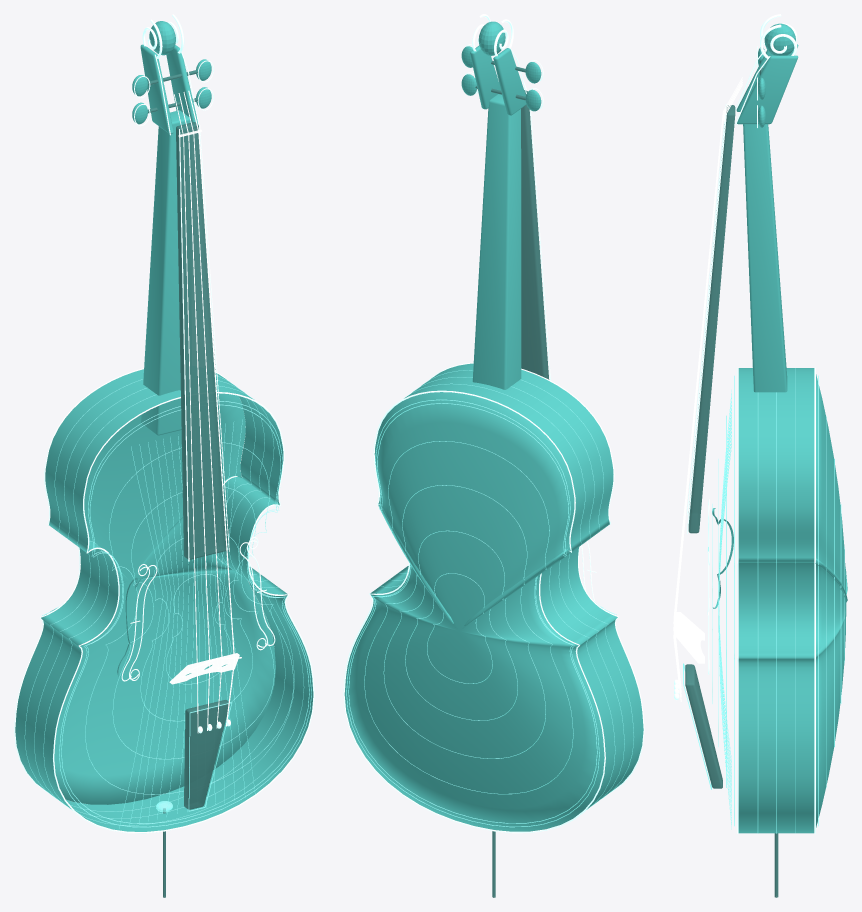
The model's file is gravity-cello.glb.
3 renders of one model, left to right at view 1: azimuth 30°, elevation 25°; view 2: azimuth 150°, elevation 25°; view 3: azimuth 270°, elevation 25°, orthographic.
Parts seen in each view (by area): view 1: Arched maple back, Continuous curved ribs, Ebony fingerboard, Maple neck and heel, Sculpted tailpiece, Front plate rim, Pegbox cheek -1, Purfling 1 0.968, Purfling 1 0.952, String 4, Pegbox cheek 1, String 2 (+12 smaller); view 2: Arched maple back, Continuous curved ribs, Maple neck and heel, Ebony fingerboard, Back plate rim, Pegbox cheek -1, Purfling -1 0.968, Purfling -1 0.952, Pegbox cheek 1, Belly arch -1 0.8, Front plate rim, Belly arch -1 0.62 (+1 smaller); view 3: Continuous curved ribs, Arched maple back, Maple neck and heel, Ebony fingerboard, Pegbox cheek 1, Sculpted tailpiece, String 4, Back plate rim, Front plate rim, Carved bridge, Rib seam 0.04, String 3 (+13 smaller).
Boxes of the visible parts, <box> form: Arched maple back: <box>46,393,275,804</box>; Continuous curved ribs: <box>15,369,313,831</box>; Ebony fingerboard: <box>176,122,227,559</box>; Maple neck and heel: <box>141,110,190,435</box>; Sculpted tailpiece: <box>184,700,229,809</box>; Front plate rim: <box>53,392,314,833</box>; Pegbox cheek -1: <box>140,44,173,133</box>; Purfling 1 0.968: <box>59,401,311,827</box>; Purfling 1 0.952: <box>61,404,309,823</box>; String 4: <box>188,90,234,726</box>; Pegbox cheek 1: <box>166,45,197,123</box>; String 2: <box>178,93,210,730</box>; Arched maple back: <box>344,392,604,831</box>; Continuous curved ribs: <box>370,363,643,808</box>; Maple neck and heel: <box>472,94,521,389</box>; Ebony fingerboard: <box>521,90,549,379</box>; Back plate rim: <box>343,390,605,833</box>; Pegbox cheek -1: <box>493,48,526,115</box>; Purfling -1 0.968: <box>346,399,599,827</box>; Purfling -1 0.952: <box>348,403,597,823</box>; Pegbox cheek 1: <box>470,45,500,109</box>; Belly arch -1 0.8: <box>364,441,573,794</box>; Front plate rim: <box>408,362,644,792</box>; Belly arch -1 0.62: <box>383,485,545,758</box>; Continuous curved ribs: <box>738,368,814,833</box>; Arched maple back: <box>815,374,847,827</box>; Maple neck and heel: <box>743,105,787,392</box>; Ebony fingerboard: <box>688,105,735,533</box>; Pegbox cheek 1: <box>737,55,798,124</box>; Sculpted tailpiece: <box>685,664,722,788</box>; String 4: <box>673,84,742,701</box>; Back plate rim: <box>814,367,815,833</box>; Front plate rim: <box>737,367,738,833</box>; Carved bridge: <box>675,612,704,663</box>; Rib seam 0.04: <box>757,393,758,833</box>; String 3: <box>673,82,742,696</box>.
Bounding box in the file's own units: 0.6498 × 2.08 × 0.3751.
